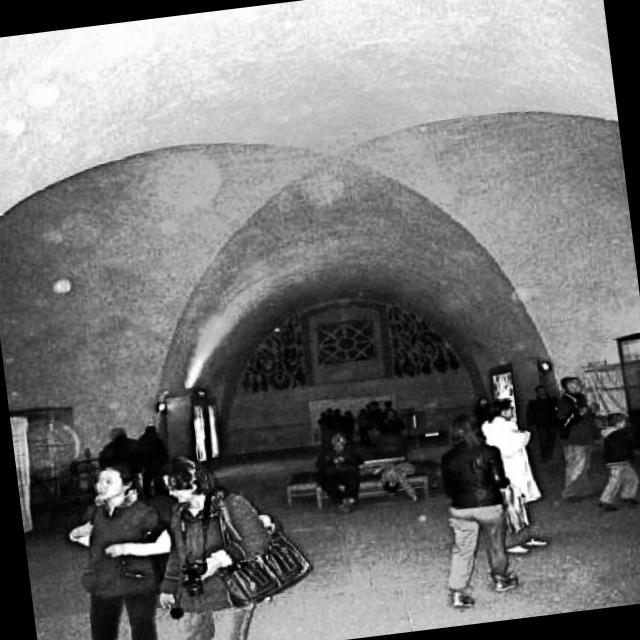Person: (139, 446, 279, 640), (57, 454, 173, 640), (423, 408, 523, 609), (469, 391, 558, 562), (539, 372, 604, 508), (577, 408, 640, 515), (304, 429, 371, 514)
